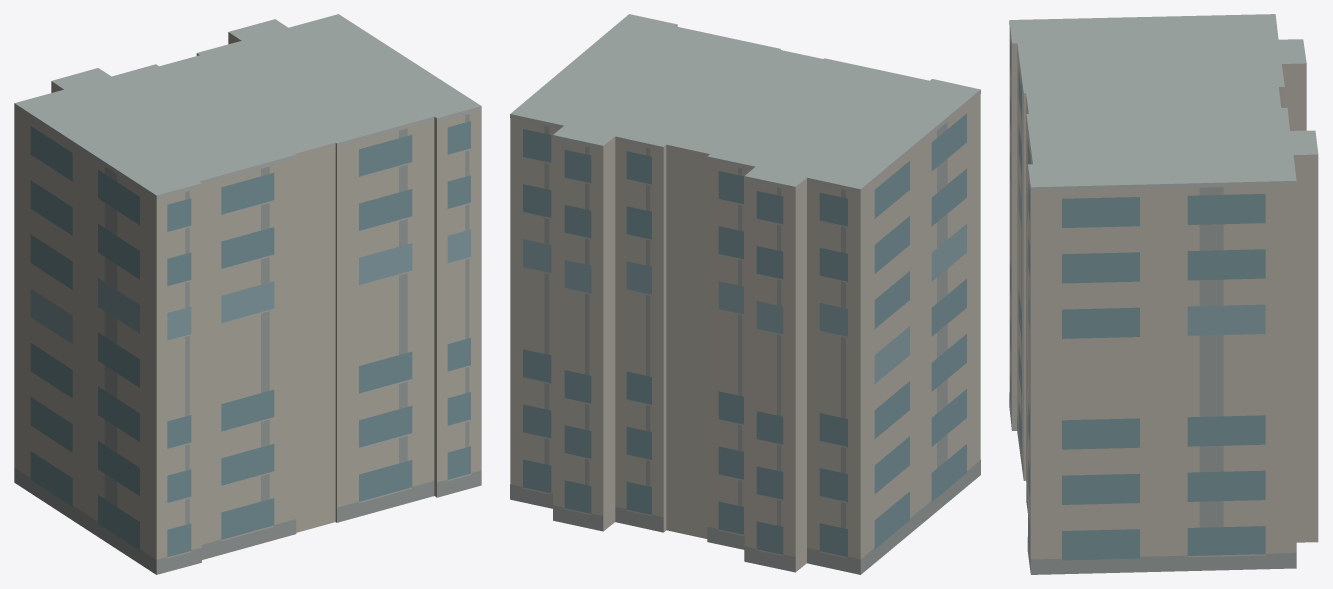
The model's file is survey-upis-32669302.glb.
The picture shows the model from 3 angles, left to right: view 1: azimuth 30°, elevation 25°; view 2: azimuth 150°, elevation 25°; view 3: azimuth 270°, elevation 25°; orthographic projection. The views are drawn at different scales.
Visible parts, largest first — view 1: survey-upis-32669302.tmp; view 2: survey-upis-32669302.tmp; view 3: survey-upis-32669302.tmp.
Boxes of the visible parts, x1=… form: survey-upis-32669302.tmp: x1=14, y1=14, x2=481, y2=574; survey-upis-32669302.tmp: x1=510, y1=14, x2=980, y2=574; survey-upis-32669302.tmp: x1=1009, y1=14, x2=1318, y2=574.
Size of the model in its own units: 20.24 by 21.1 by 15.25.
